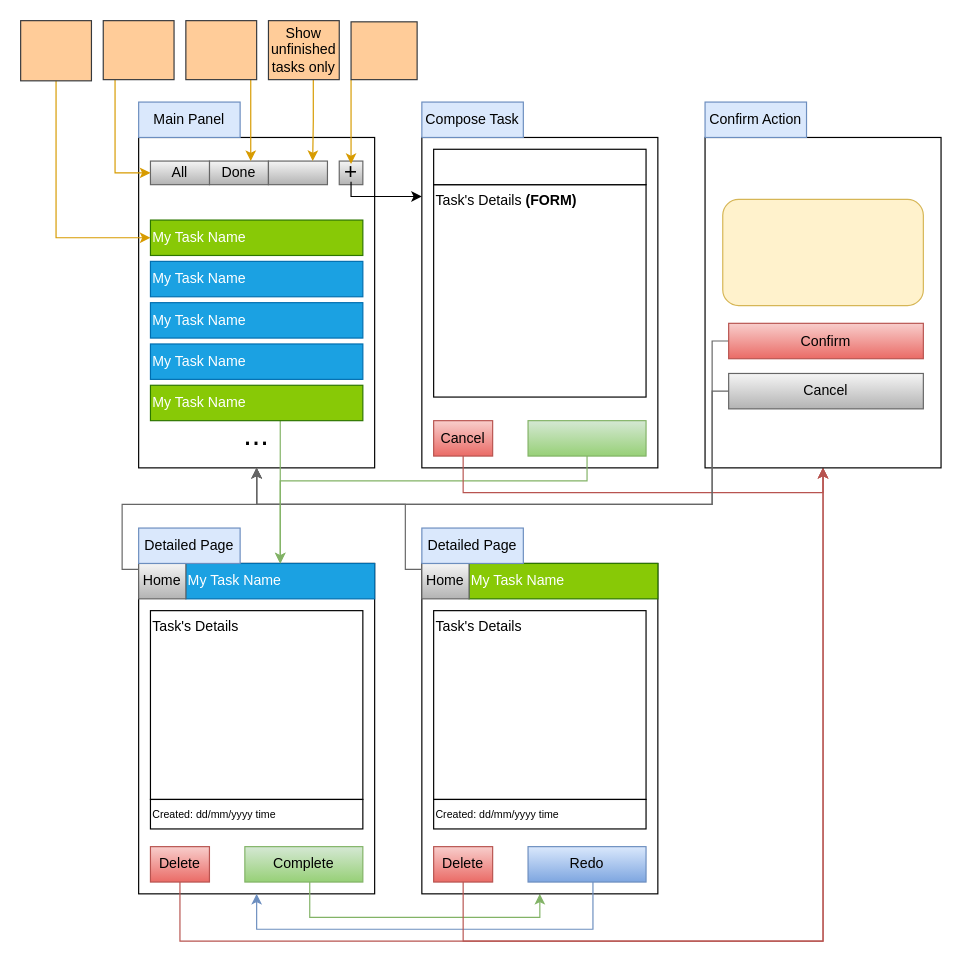
Image size: 962x971. Some labels were removed from this diagram. Each missing label, with the box of its shape:
Add new task: (350, 21, 417, 80)
Confirm Action Popup: (722, 198, 923, 306)
Create: (527, 419, 646, 456)
My Task Name (FORM): (432, 148, 646, 185)
Scrollable Items (Vertically): (19, 19, 91, 81)
Show all tasks: (102, 19, 174, 80)
Show completed tasks only: (185, 19, 257, 80)
ToDo: (267, 160, 327, 185)
